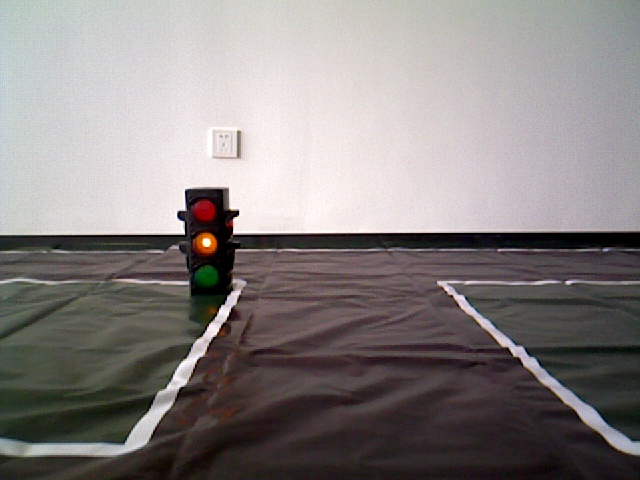yellow: (183, 189, 234, 298)
